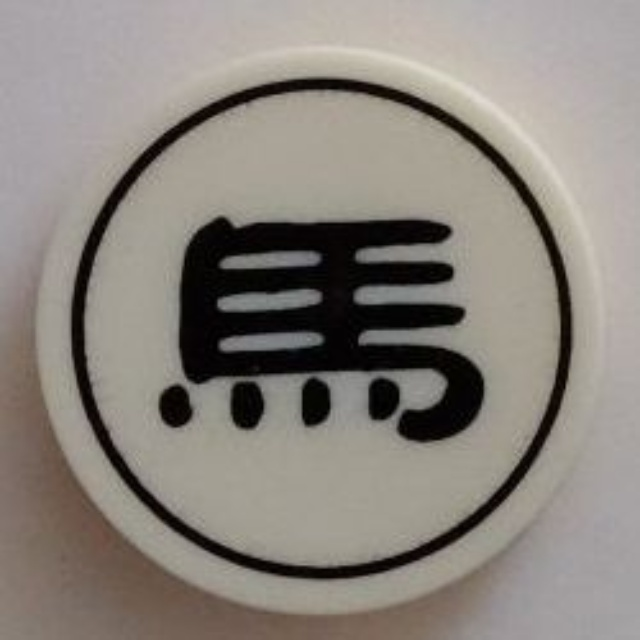black_ma: (49, 43, 610, 621)
